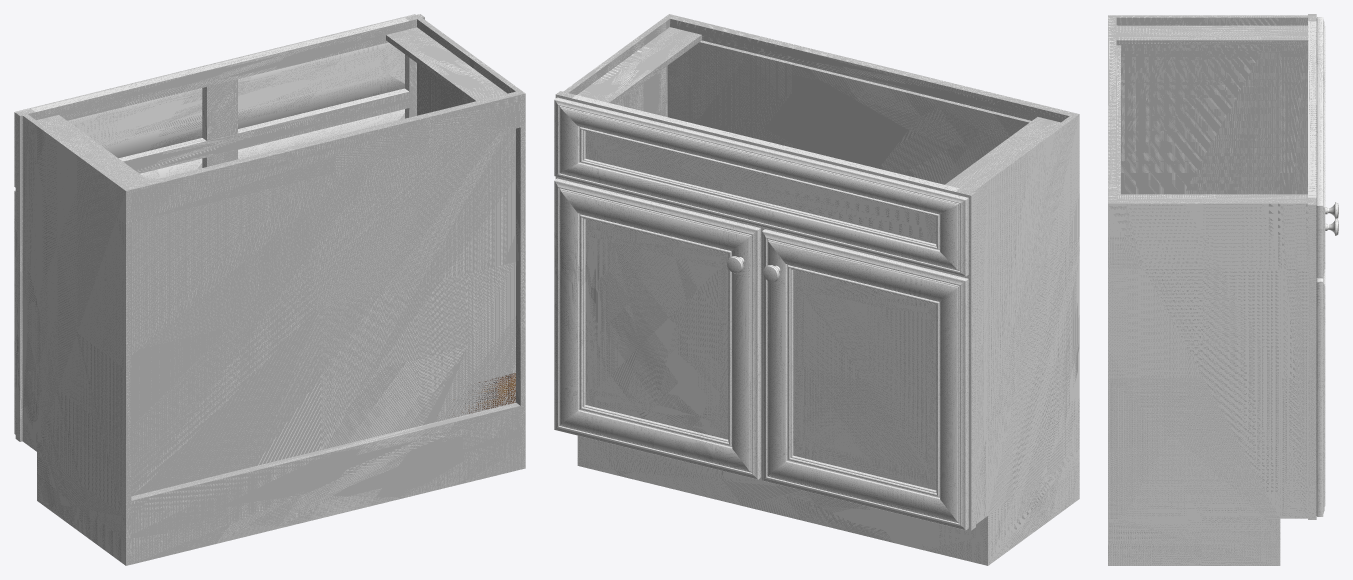
3 renders of one model, left to right at view 1: azimuth 30°, elevation 25°; view 2: azimuth 150°, elevation 25°; view 3: azimuth 270°, elevation 25°, orthographic. The views are drawn at different scales.
Parts seen in each view (by area): view 1: mesh4_mesh4-geometry, mesh7_mesh7-geometry, mesh13_mesh13-geometry, mesh3_mesh3-geometry, mesh5_mesh5-geometry, mesh27_mesh27-geometry, mesh10_mesh10-geometry, mesh6_mesh6-geometry, mesh8_mesh8-geometry, mesh23_mesh23-geometry, mesh2_mesh2-geometry, mesh15_mesh15-geometry (+6 smaller); view 2: mesh7_mesh7-geometry, mesh4_mesh4-geometry, mesh47_mesh47-geometry, mesh36_mesh36-geometry, mesh14_mesh14-geometry, mesh22_mesh22-geometry, mesh23_mesh23-geometry, mesh26_mesh26-geometry, mesh3_mesh3-geometry, mesh46_mesh46-geometry, mesh34_mesh34-geometry, mesh45_mesh45-geometry (+26 smaller); view 3: mesh10_mesh10-geometry, mesh7_mesh7-geometry, mesh9_mesh9-geometry, mesh11_mesh11-geometry, mesh6_mesh6-geometry, mesh16_mesh16-geometry, mesh2_mesh2-geometry, mesh3_mesh3-geometry, mesh5_mesh5-geometry, mesh15_mesh15-geometry, mesh22_mesh22-geometry, mesh34_mesh34-geometry (+4 smaller).
Part boxes in pixels (bbox=[...]): mesh4_mesh4-geometry: bbox=[131, 128, 515, 496]; mesh7_mesh7-geometry: bbox=[37, 124, 131, 516]; mesh13_mesh13-geometry: bbox=[131, 402, 520, 564]; mesh3_mesh3-geometry: bbox=[127, 91, 520, 222]; mesh5_mesh5-geometry: bbox=[31, 18, 409, 173]; mesh27_mesh27-geometry: bbox=[74, 51, 379, 143]; mesh10_mesh10-geometry: bbox=[431, 28, 525, 420]; mesh6_mesh6-geometry: bbox=[22, 114, 41, 451]; mesh8_mesh8-geometry: bbox=[37, 452, 131, 565]; mesh23_mesh23-geometry: bbox=[99, 76, 379, 158]; mesh2_mesh2-geometry: bbox=[15, 14, 424, 441]; mesh15_mesh15-geometry: bbox=[386, 27, 507, 102]; mesh7_mesh7-geometry: bbox=[983, 113, 1079, 515]; mesh4_mesh4-geometry: bbox=[667, 40, 1031, 184]; mesh47_mesh47-geometry: bbox=[803, 289, 926, 470]; mesh36_mesh36-geometry: bbox=[596, 238, 719, 419]; mesh14_mesh14-geometry: bbox=[583, 437, 982, 564]; mesh22_mesh22-geometry: bbox=[593, 107, 927, 214]; mesh23_mesh23-geometry: bbox=[593, 159, 926, 266]; mesh26_mesh26-geometry: bbox=[596, 134, 926, 239]; mesh3_mesh3-geometry: bbox=[670, 15, 1073, 122]; mesh46_mesh46-geometry: bbox=[927, 319, 968, 481]; mesh34_mesh34-geometry: bbox=[554, 229, 595, 389]; mesh45_mesh45-geometry: bbox=[762, 280, 803, 440]; mesh10_mesh10-geometry: bbox=[1108, 201, 1280, 518]; mesh7_mesh7-geometry: bbox=[1108, 15, 1280, 194]; mesh9_mesh9-geometry: bbox=[1280, 201, 1307, 518]; mesh11_mesh11-geometry: bbox=[1108, 518, 1280, 565]; mesh6_mesh6-geometry: bbox=[1280, 15, 1307, 194]; mesh16_mesh16-geometry: bbox=[1116, 25, 1307, 45]; mesh2_mesh2-geometry: bbox=[1308, 14, 1316, 519]; mesh3_mesh3-geometry: bbox=[1108, 17, 1116, 201]; mesh5_mesh5-geometry: bbox=[1308, 21, 1316, 197]; mesh15_mesh15-geometry: bbox=[1116, 194, 1307, 201]; mesh22_mesh22-geometry: bbox=[1316, 35, 1325, 192]; mesh34_mesh34-geometry: bbox=[1316, 325, 1325, 470].
Size of the model in its own units: 0.6995 by 0.6188 by 0.3576.
